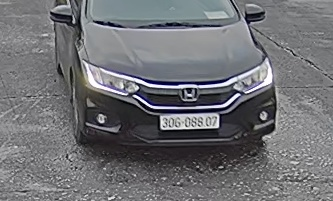vehicle plate: (156, 113, 222, 132)
